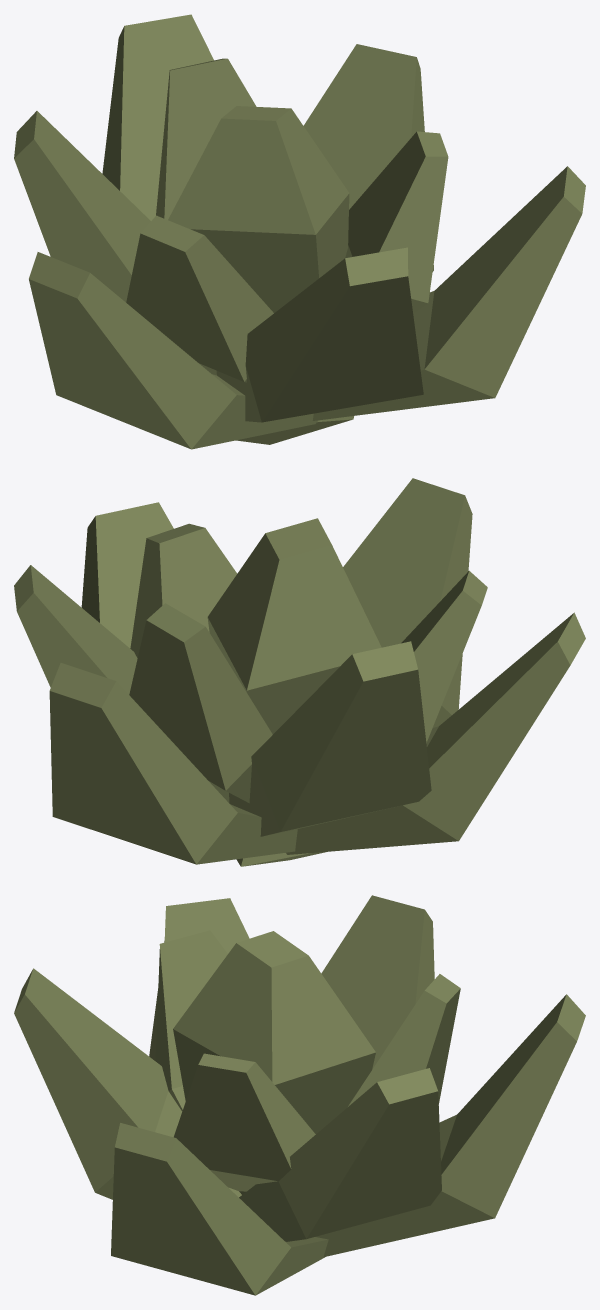
The model's file is SM_Env_Plant_01.fbx.
3 renders of one model, top to bottom at view 1: azimuth 30°, elevation 25°; view 2: azimuth 150°, elevation 25°; view 3: azimuth 270°, elevation 25°, orthographic. The views are drawn at different scales.
Visible parts, largest first — view 1: SM_Env_Plant_01; view 2: SM_Env_Plant_01; view 3: SM_Env_Plant_01.
Boxes of the visible parts, bbox=[...] form: SM_Env_Plant_01: bbox=[14, 14, 585, 449]; SM_Env_Plant_01: bbox=[14, 478, 585, 866]; SM_Env_Plant_01: bbox=[14, 895, 585, 1295].
Size of the model in its own units: 65.65 by 40.51 by 66.99.
